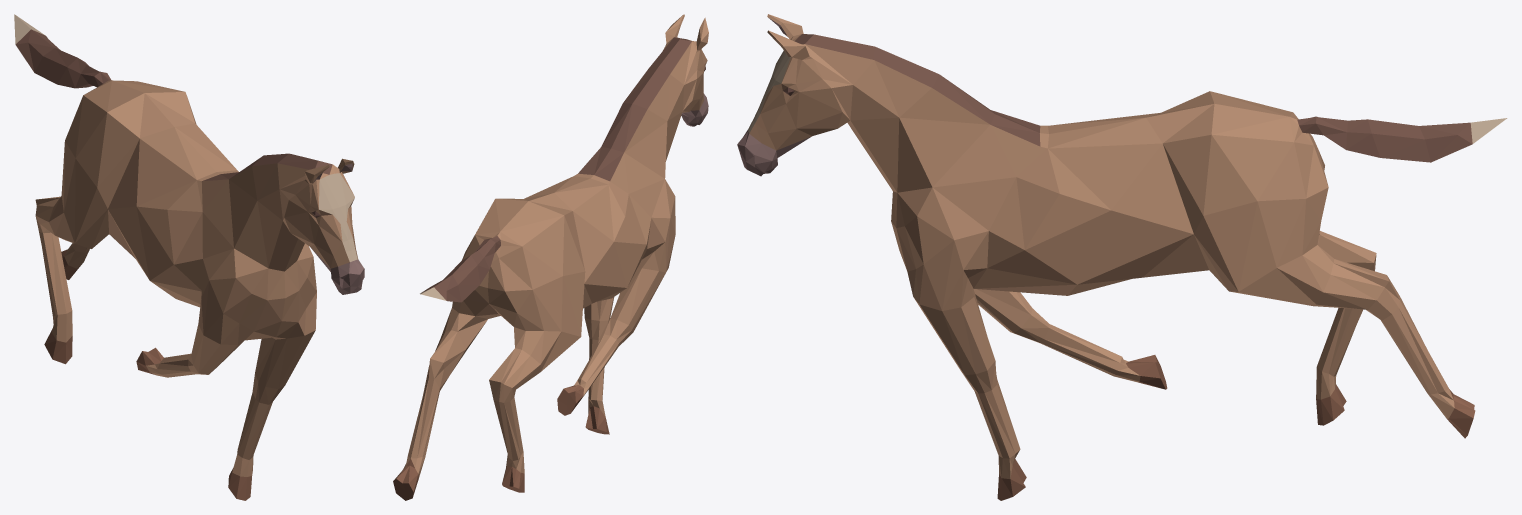
Rendered from Horse.glb.
The picture shows the model from 3 angles, left to right: view 1: azimuth 30°, elevation 25°; view 2: azimuth 150°, elevation 25°; view 3: azimuth 270°, elevation 25°; orthographic projection. The views are drawn at different scales.
Visible parts, largest first — view 1: mesh_0; view 2: mesh_0; view 3: mesh_0.
Part boxes in pixels (<box>): mesh_0: <box>14,14,364,500</box>; mesh_0: <box>393,14,708,500</box>; mesh_0: <box>737,14,1507,500</box>.
Size of the model in its own units: 65.68 by 199 by 293.
